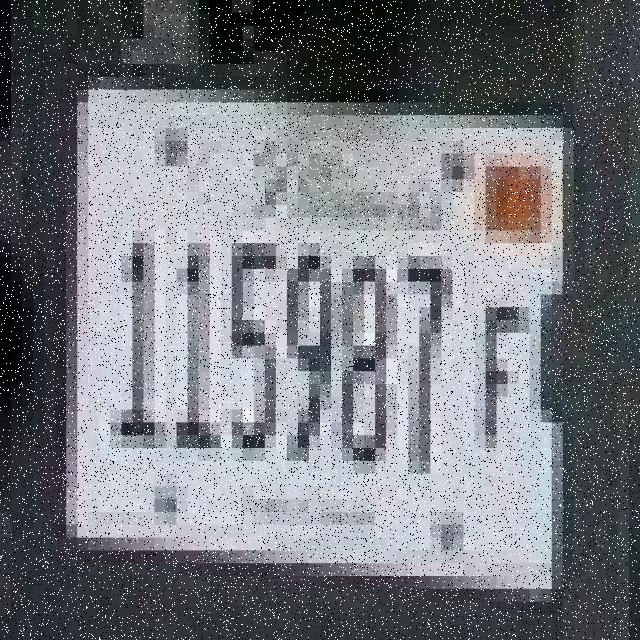licenseplate: (72, 54, 578, 610)
